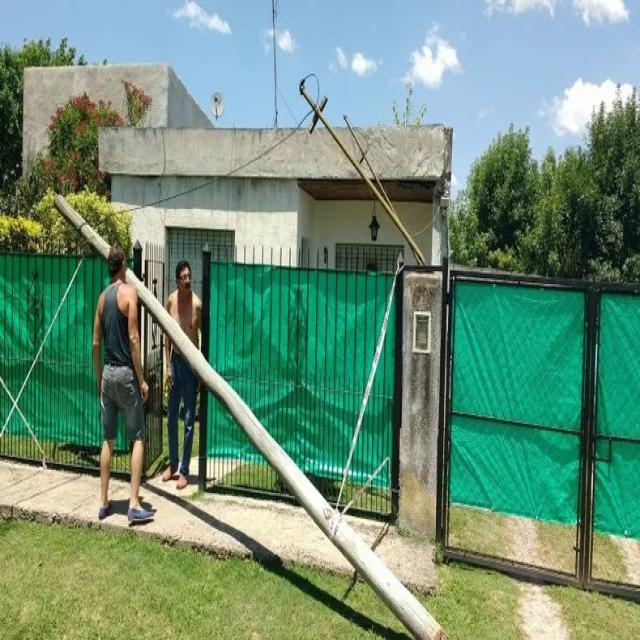Inclined Pole: (48, 184, 450, 640)
